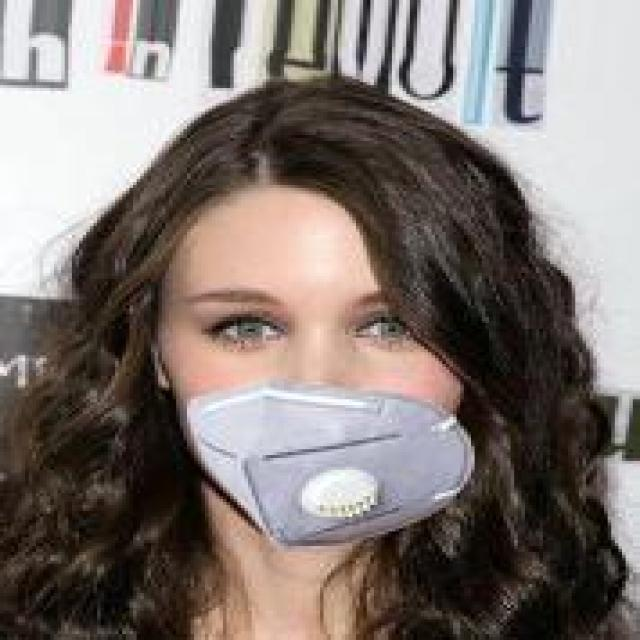mask: (111, 123, 554, 561)
